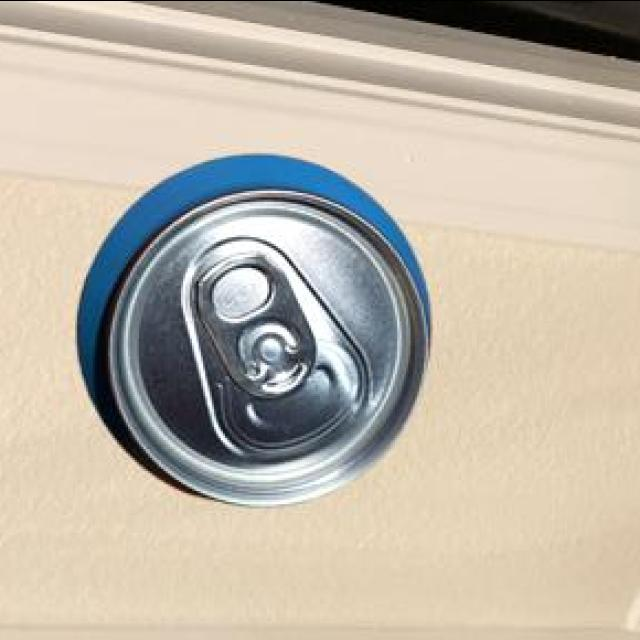logam: (74, 158, 427, 509)
